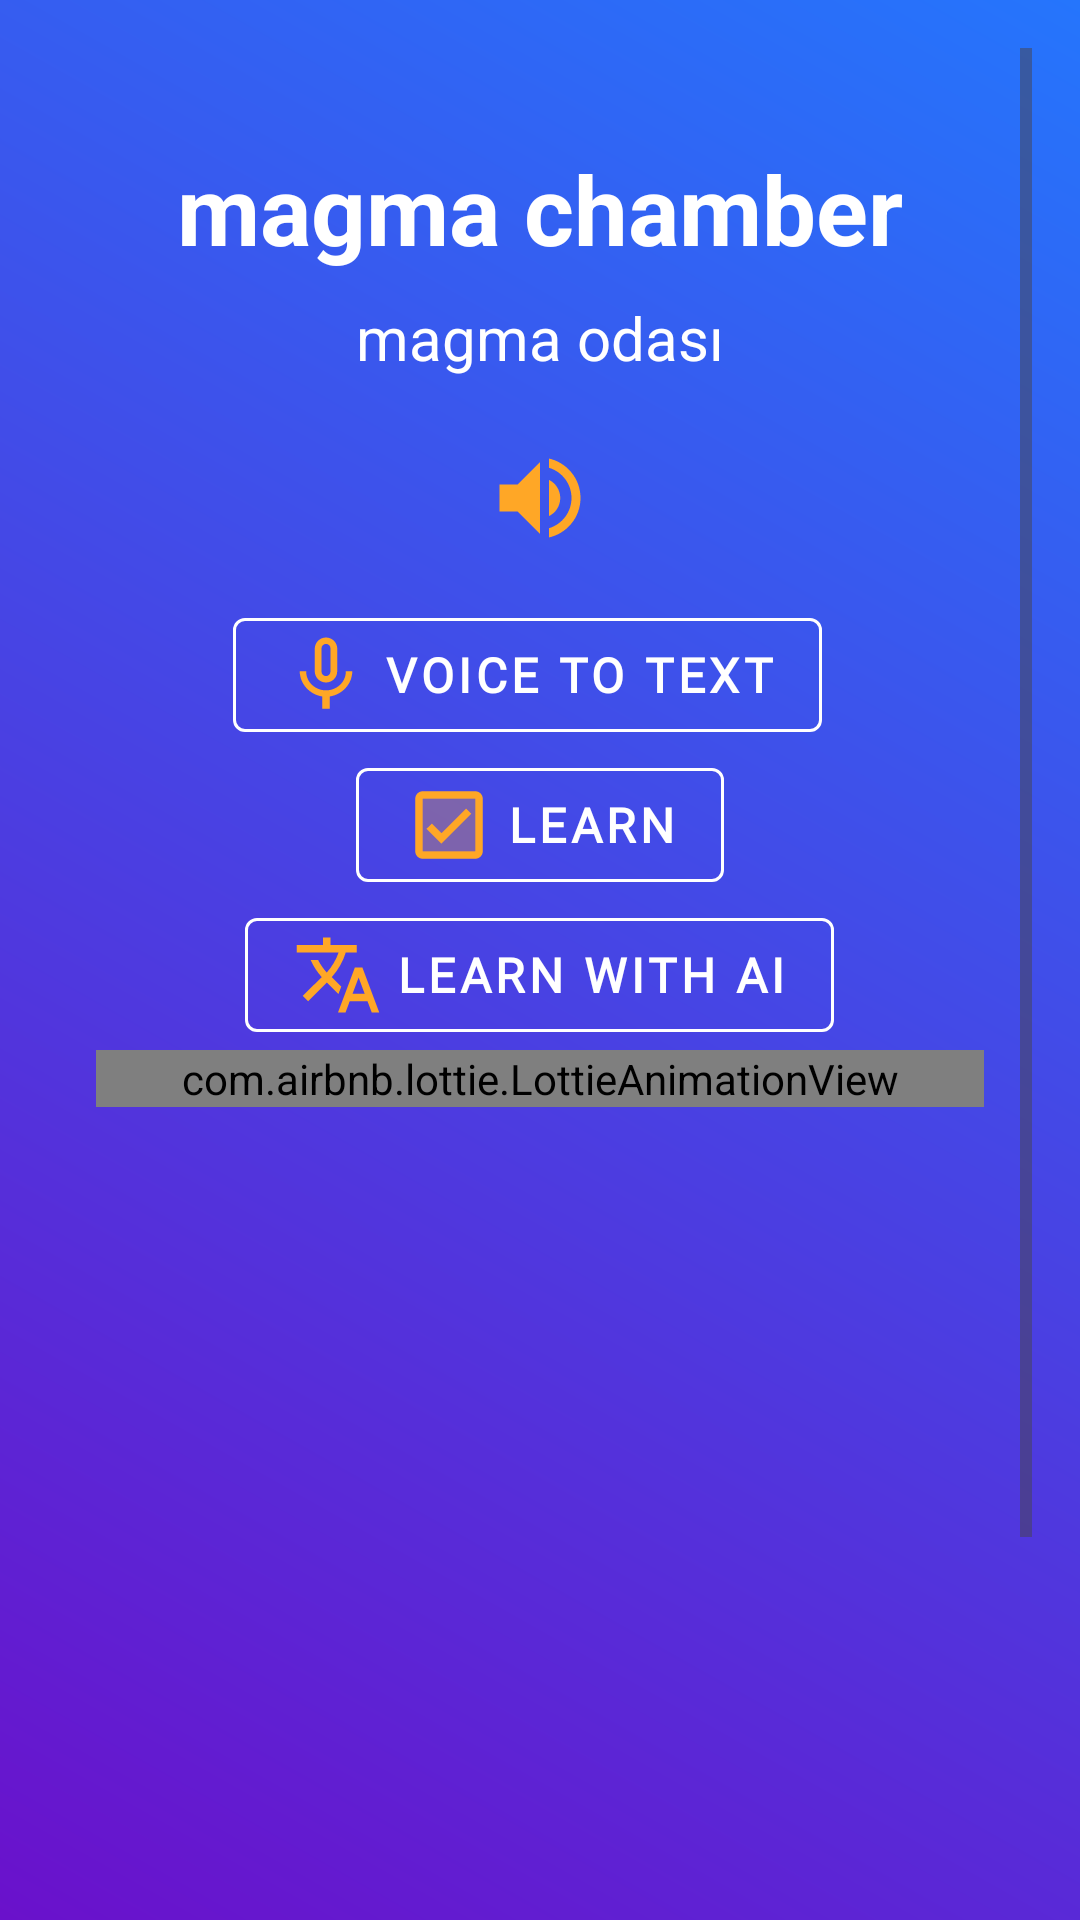

Icon bounding boxes for this 1080*1920 phone screenshot, format (x1, y1, x2, y2):
Voice Pronunciation: (499, 458, 581, 538)
